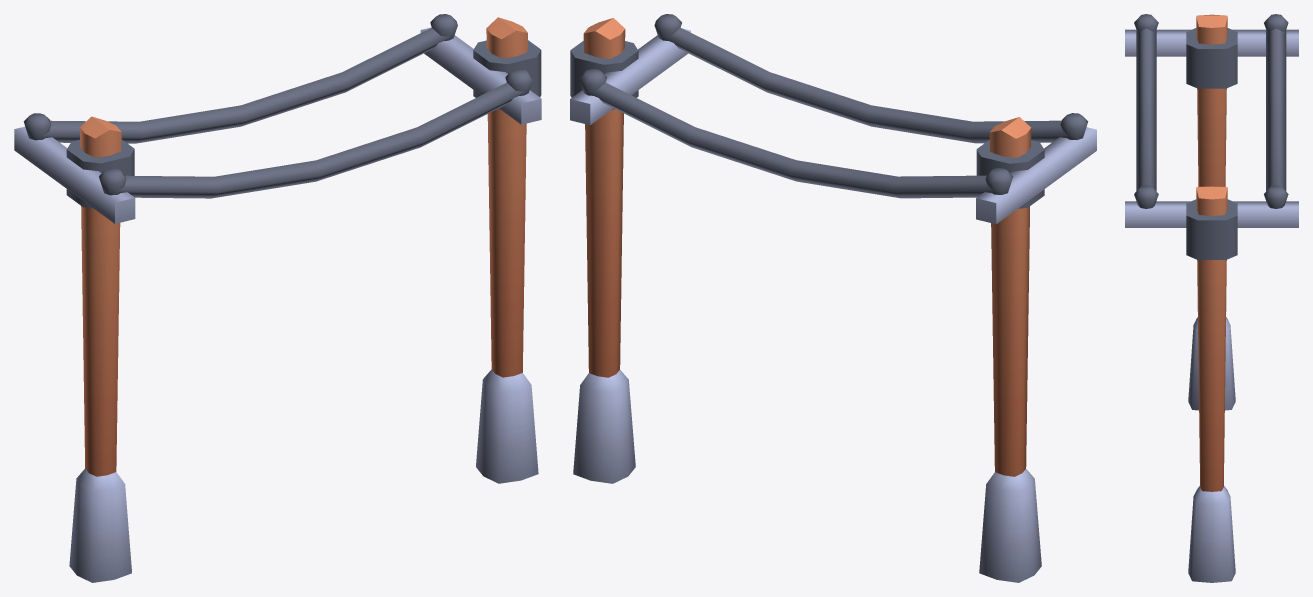
Rendered from electricity-pole.glb.
3 renders of one model, left to right at view 1: azimuth 30°, elevation 25°; view 2: azimuth 150°, elevation 25°; view 3: azimuth 270°, elevation 25°, orthographic. The views are drawn at different scales.
Parts seen in each view (by area): view 1: electricity-pole; view 2: electricity-pole; view 3: electricity-pole.
Part boxes in pixels (bbox=[...]): electricity-pole: bbox=[14, 14, 541, 582]; electricity-pole: bbox=[570, 14, 1096, 582]; electricity-pole: bbox=[1125, 14, 1298, 582].
Bounding box in the file's own units: 0.5791 × 0.525 × 0.2142.
Materials: 1 (1 with a texture image).
